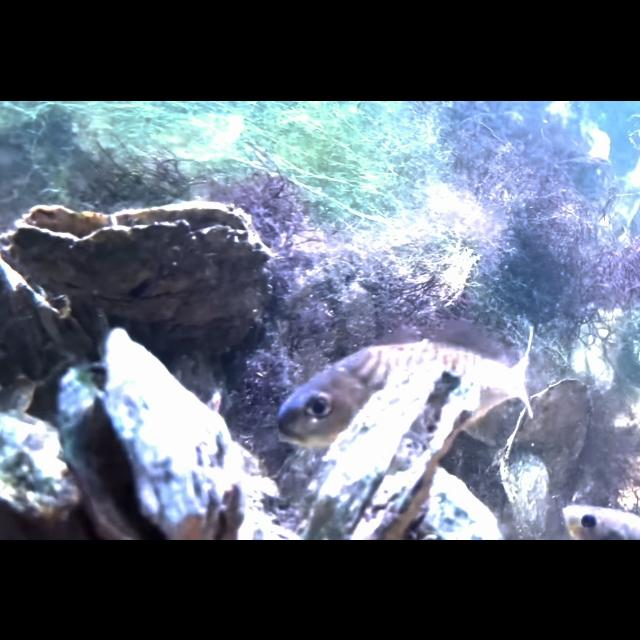Oyster-Closed: (502, 377, 594, 511), (0, 407, 80, 527)
Oyster-Open: (55, 325, 246, 539), (8, 195, 272, 348), (306, 360, 480, 538)
